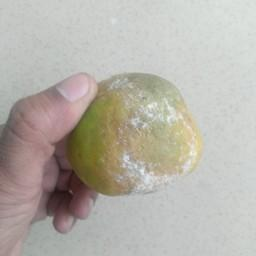Bad_orange: (61, 66, 205, 200)
